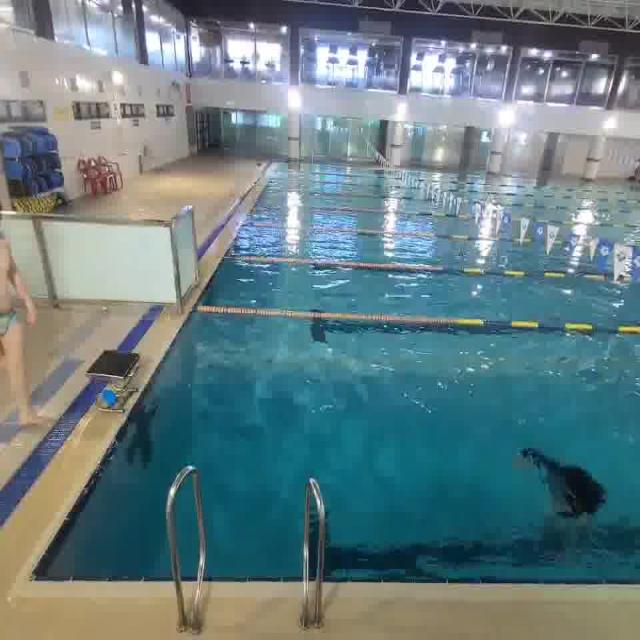Drowning: (511, 438, 611, 542)
